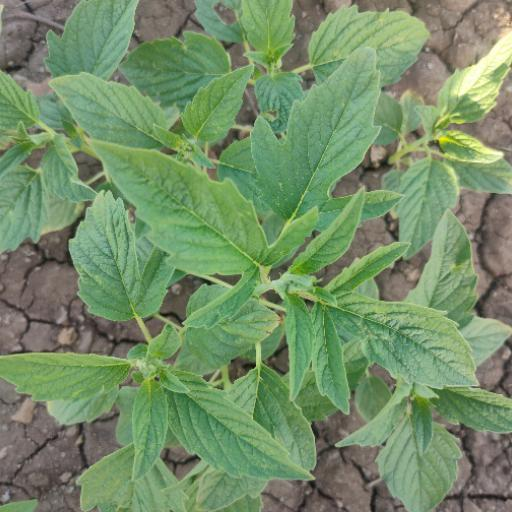crop: (26, 15, 497, 495)
